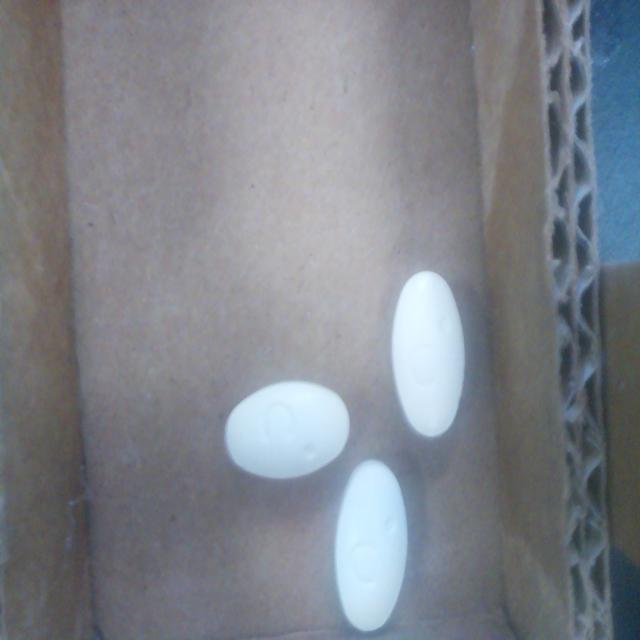pill: (391, 271, 465, 438), (335, 460, 407, 631), (225, 381, 350, 479)
